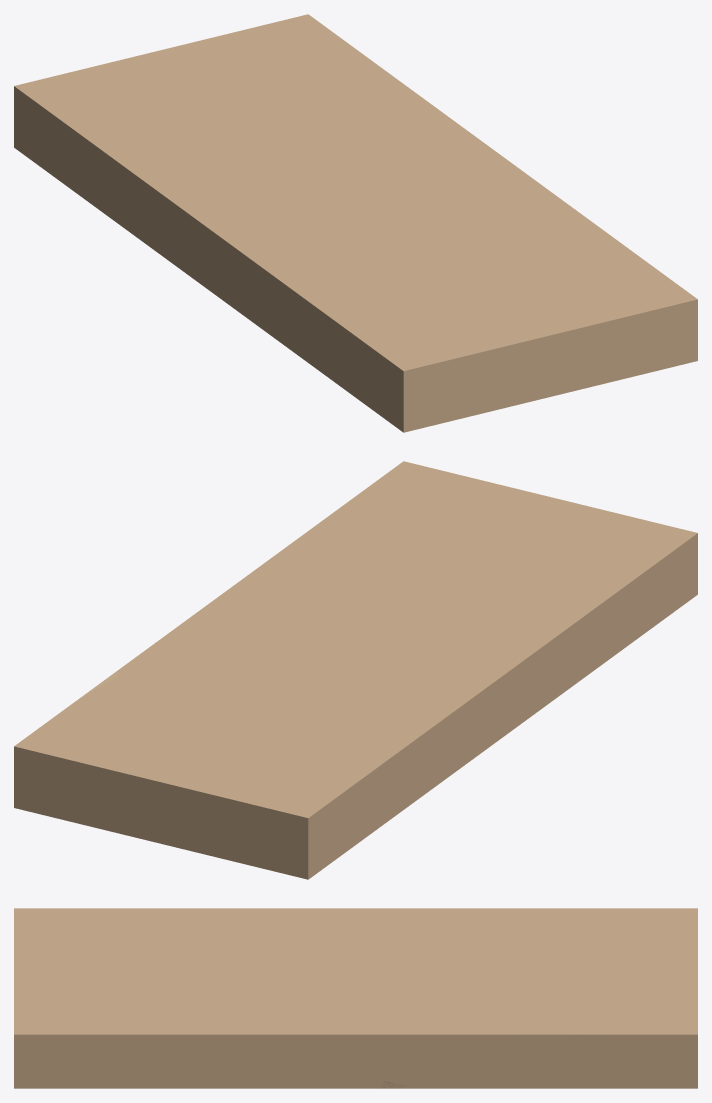
File: Shield.fbx
3 views of the same model, one above another, from view 1: azimuth 30°, elevation 25°; view 2: azimuth 150°, elevation 25°; view 3: azimuth 270°, elevation 25° (orthographic). The views are drawn at different scales.
Parts seen in each view (by area): view 1: Shield, Shield_cell.001, Shield_cell.002, Shield_cell.001_cell.001, Shield_cell.002_cell, Shield_cell.005, Shield_cell.001_cell.011, Shield_cell.002_cell.010, Shield_cell.002_cell.001, Shield_cell.001_cell, Shield_cell.002_cell.012; view 2: Shield, Shield_cell.002, Shield_cell.001, Shield_cell.001_cell.001, Shield_cell.002_cell, Shield_cell.002_cell.010, Shield_cell.001_cell.011, Shield_cell.002_cell.001, Shield_cell.002_cell.003, Shield_cell.001_cell, Shield_cell.005, Shield_cell.002_cell.012; view 3: Shield, Shield_cell.001, Shield_cell.001_cell.001, Shield_cell.002, Shield_cell.002_cell, Shield_cell.002_cell.010, Shield_cell.001_cell.013, Shield_cell.001_cell.005, Shield_cell.002_cell.001, Shield_cell.001_cell, Shield_cell.006, Shield_cell.002_cell.009 (+3 smaller).
Part boxes in pixels (<box>): Shield: <box>14,56,697,432</box>; Shield_cell.001: <box>164,58,639,304</box>; Shield_cell.002: <box>14,14,364,256</box>; Shield_cell.001_cell.001: <box>268,77,490,183</box>; Shield_cell.002_cell: <box>14,56,242,145</box>; Shield_cell.005: <box>230,248,469,431</box>; Shield_cell.001_cell.011: <box>164,178,335,299</box>; Shield_cell.002_cell.010: <box>205,14,365,103</box>; Shield_cell.002_cell.001: <box>140,17,295,70</box>; Shield_cell.001_cell: <box>202,117,283,177</box>; Shield_cell.002_cell.012: <box>124,167,163,216</box>; Shield: <box>14,461,697,879</box>; Shield_cell.002: <box>14,704,464,879</box>; Shield_cell.001: <box>205,503,529,769</box>; Shield_cell.001_cell.001: <box>118,612,369,703</box>; Shield_cell.002_cell: <box>166,730,389,877</box>; Shield_cell.002_cell.010: <box>14,704,211,771</box>; Shield_cell.001_cell.011: <box>370,639,528,765</box>; Shield_cell.002_cell.001: <box>25,749,182,837</box>; Shield_cell.002_cell.003: <box>14,770,166,844</box>; Shield_cell.001_cell: <box>237,680,401,703</box>; Shield_cell.005: <box>569,534,697,668</box>; Shield_cell.002_cell.012: <box>418,705,463,794</box>; Shield: <box>14,908,697,1088</box>; Shield_cell.001: <box>107,908,604,1088</box>; Shield_cell.001_cell.001: <box>370,949,571,1086</box>; Shield_cell.002: <box>424,908,697,1088</box>; Shield_cell.002_cell: <box>548,908,697,977</box>; Shield_cell.002_cell.010: <box>546,976,697,1062</box>; Shield_cell.001_cell.013: <box>108,1034,259,1088</box>; Shield_cell.001_cell.005: <box>509,1032,604,1088</box>; Shield_cell.002_cell.001: <box>641,962,697,1029</box>; Shield_cell.001_cell: <box>422,928,523,981</box>; Shield_cell.006: <box>14,1034,112,1088</box>; Shield_cell.002_cell.009: <box>538,989,676,1072</box>.
Size of the model in its own units: 79.8 by 15.95 by 183.
